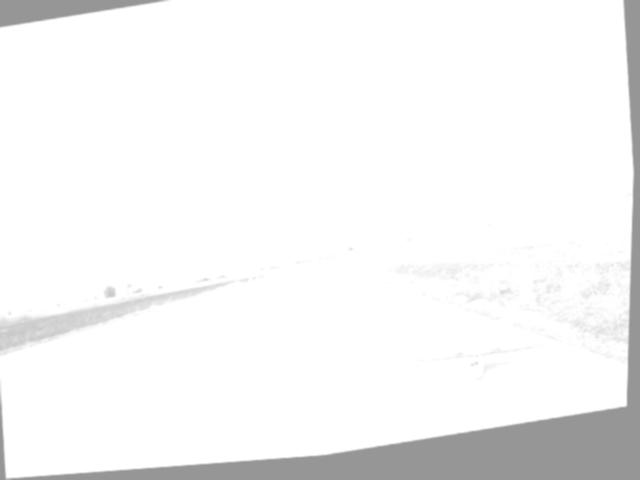hedef: (404, 322, 568, 405)
